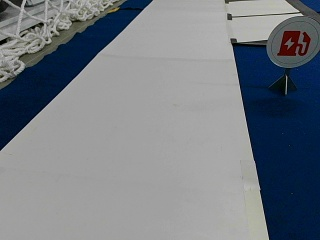battery: (265, 14, 318, 69)
